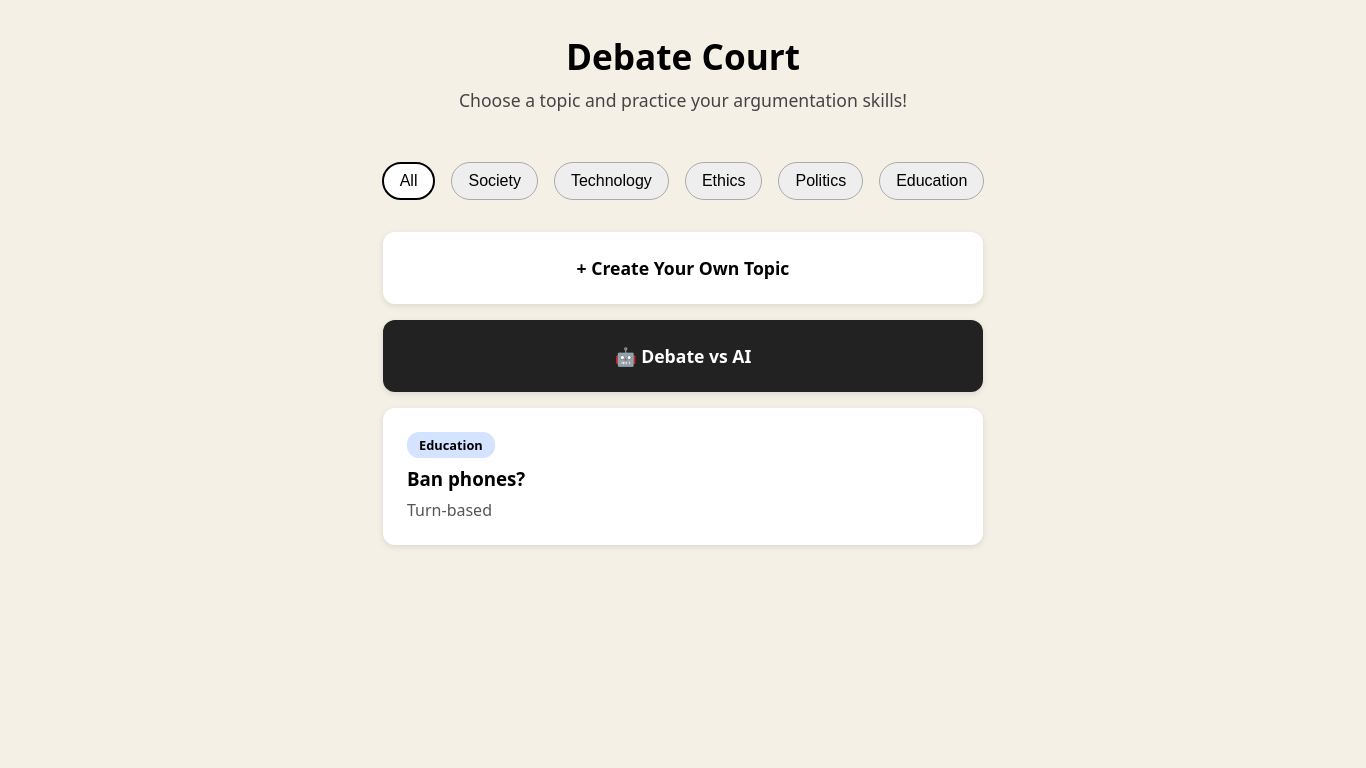
Scenario: Page tests › TopicsPage loads and creates
Expected: the heading "Ban phones?" is shown, x1=407 y1=466 x2=525 y2=491
Click the text "+ Create Your Own Topic".
click(683, 268)  # box x1=383 y1=232 x2=983 y2=304
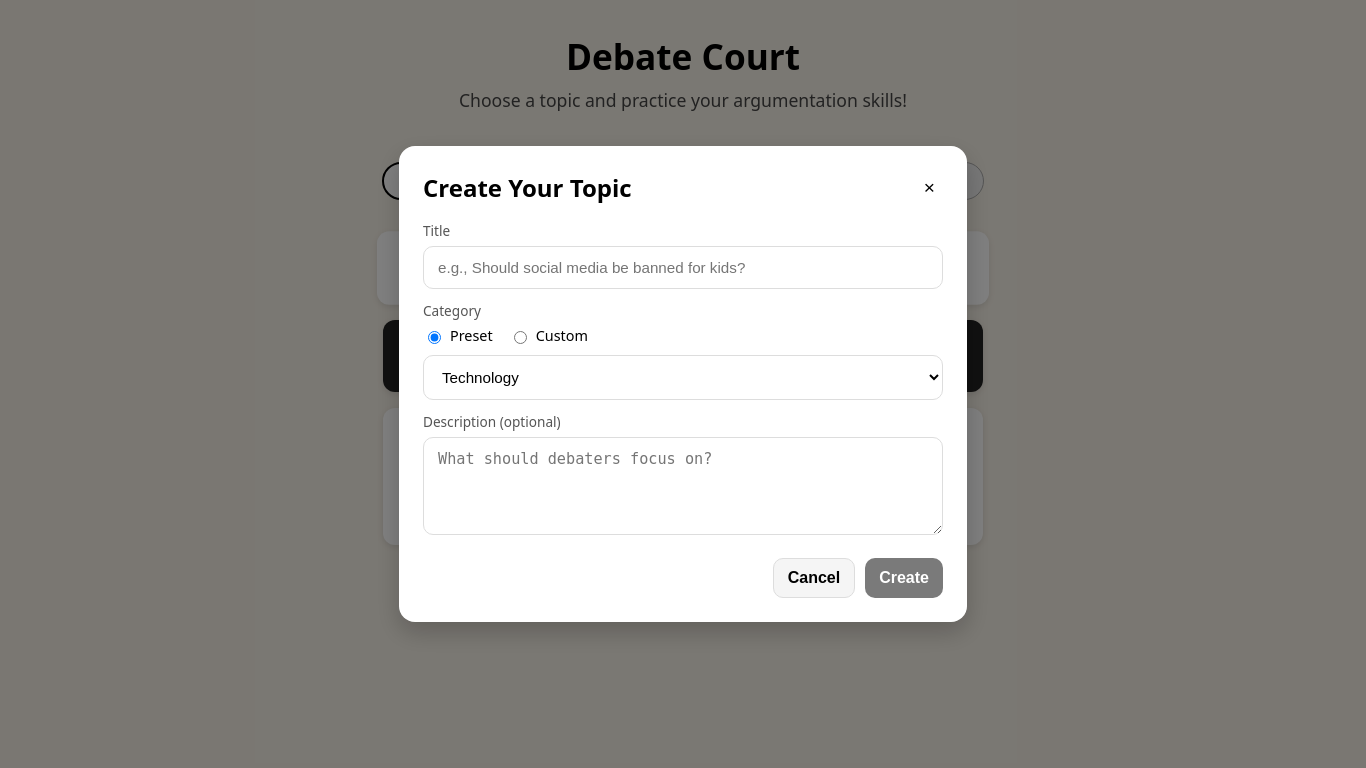
Type "New topic" into the field with placeholder "e.g., Should social media be banned for kids?".
click(683, 268); type("New topic")  # box x1=423 y1=246 x2=943 y2=289
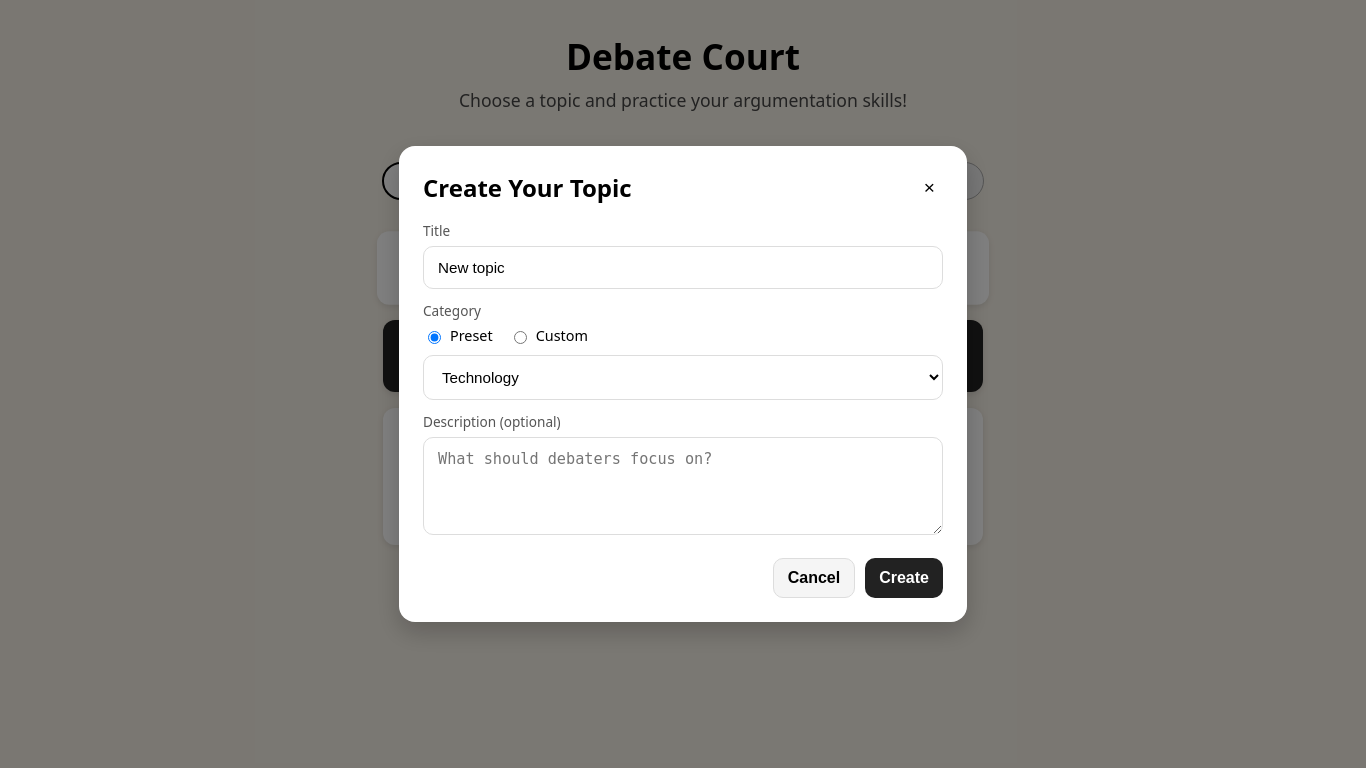
Click the button "Create".
click(904, 578)  # box x1=865 y1=558 x2=943 y2=598
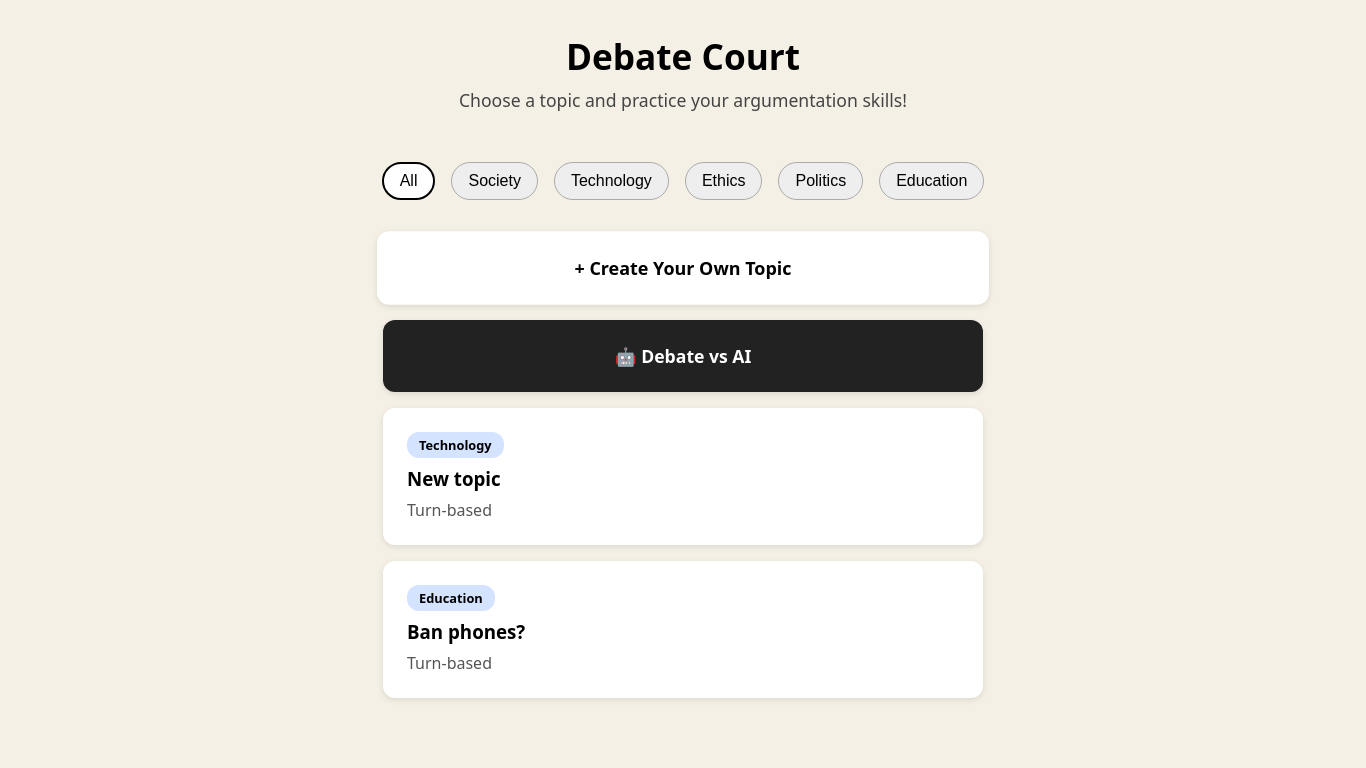
Expected: the heading "New topic" is shown, x1=407 y1=466 x2=501 y2=491
